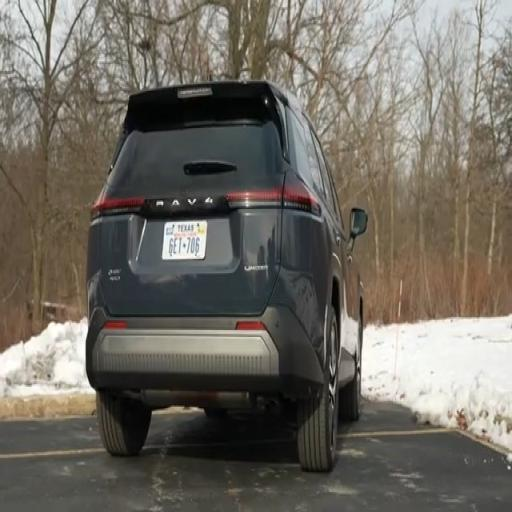bumper: (86, 308, 323, 396)
emblem: (205, 197, 212, 204), (156, 201, 163, 207), (188, 198, 195, 204), (172, 200, 179, 206)
side_mirror: (350, 208, 367, 250)
tire: (297, 306, 339, 472), (96, 390, 151, 456), (340, 318, 362, 422)
trunk: (94, 99, 284, 317)
wheel: (204, 409, 227, 419)
window: (287, 109, 323, 194)
